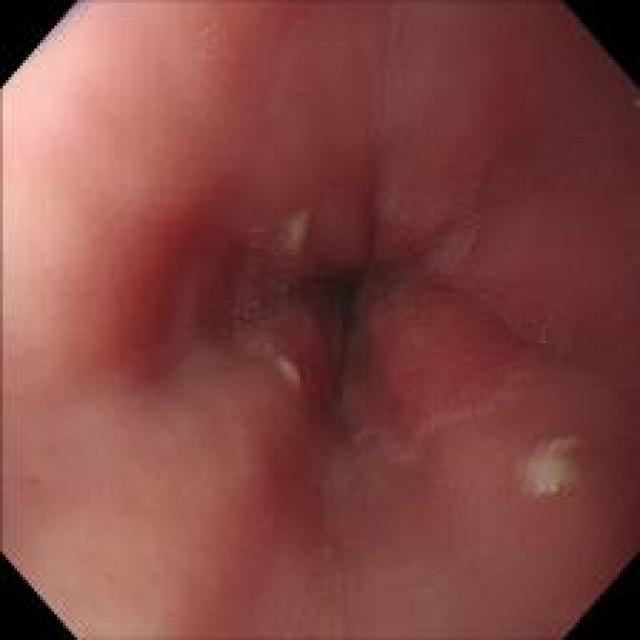blur: (89, 9, 630, 612)
bubbles: (199, 21, 218, 66), (535, 472, 564, 499), (531, 320, 552, 356)
